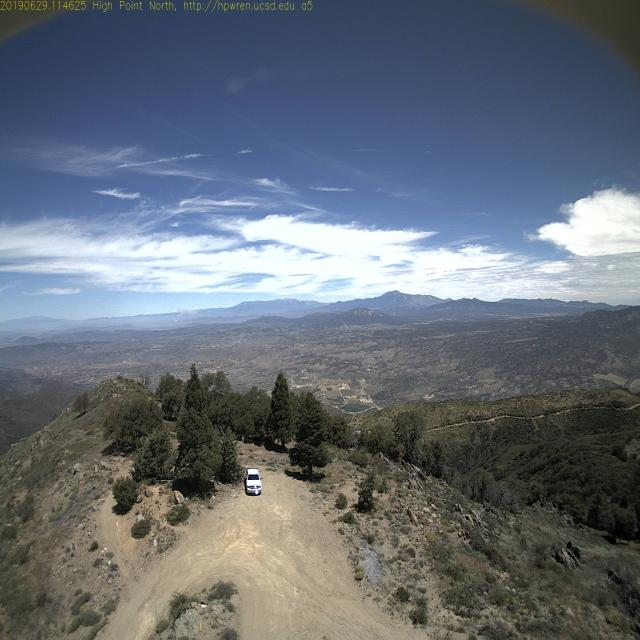smoke: (168, 302, 200, 328)
